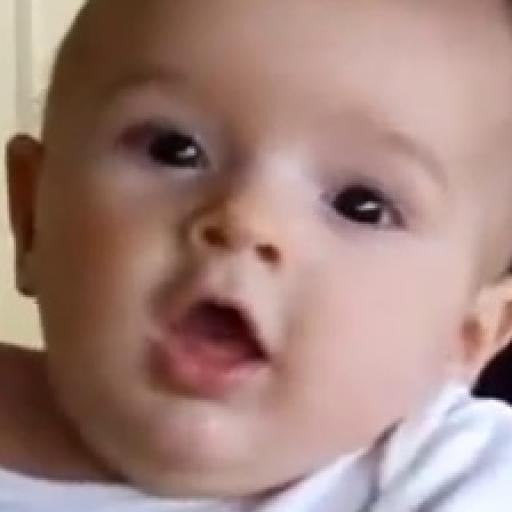Autism: (7, 6, 512, 512)
